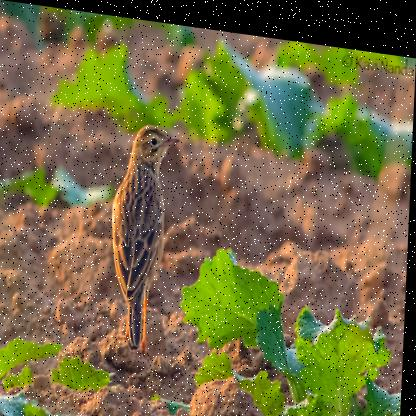Burung: (108, 117, 180, 347)
